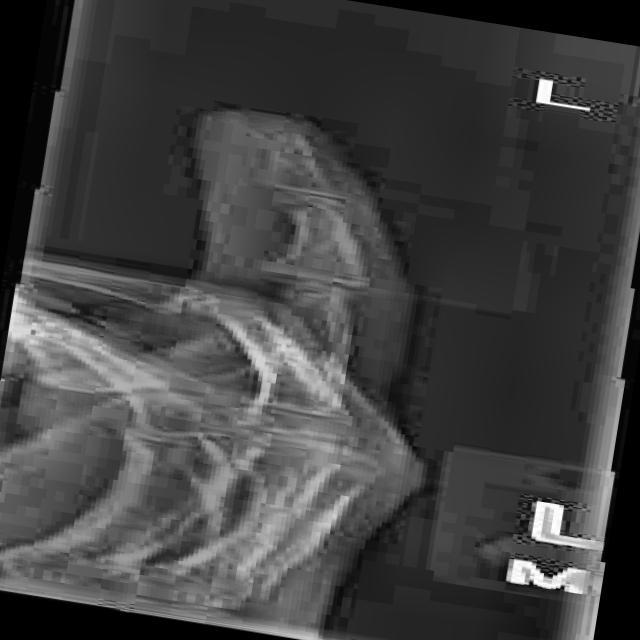fingers positive: (235, 269, 370, 304)
